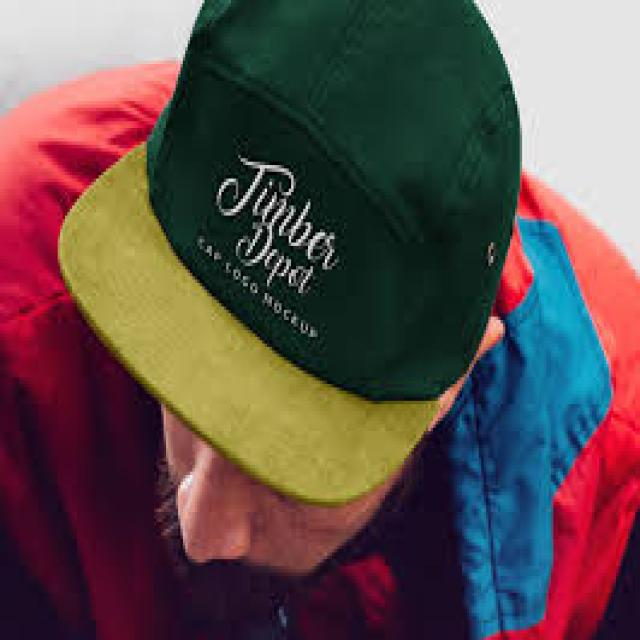cap: (55, 3, 522, 600)
